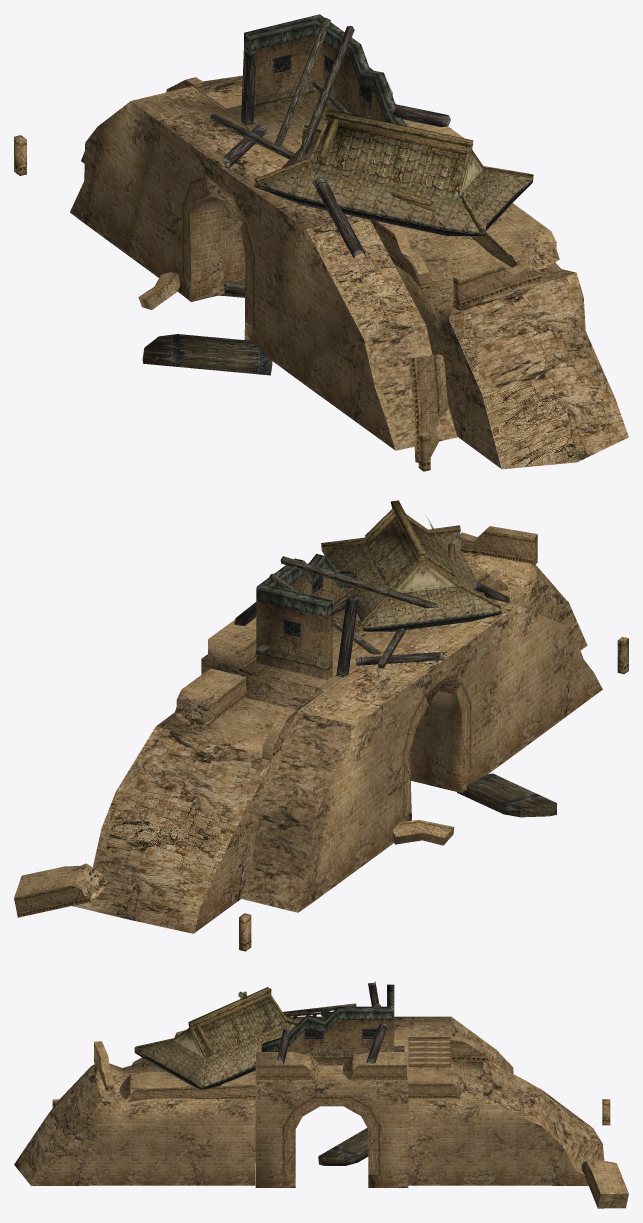
The model's file is w_cd_castle_wall06.glb.
3 renders of one model, top to bottom at view 1: azimuth 30°, elevation 25°; view 2: azimuth 150°, elevation 25°; view 3: azimuth 270°, elevation 25°, orthographic. The views are drawn at different scales.
Visible parts, largest first — view 1: w_cd_castle_wall06 (×2), w_cd_castle_door_2; view 2: w_cd_castle_wall06 (×2), w_cd_castle_door_2; view 3: w_cd_castle_wall06 (×2), w_cd_castle_door_2.
Boxes of the visible parts, box(x1,y1,x2,y2) form: w_cd_castle_wall06 (×2): box(14, 14, 628, 471); w_cd_castle_door_2: box(142, 279, 333, 375); w_cd_castle_wall06 (×2): box(14, 500, 628, 951); w_cd_castle_door_2: box(457, 773, 556, 817); w_cd_castle_wall06 (×2): box(14, 981, 628, 1208); w_cd_castle_door_2: box(318, 1128, 368, 1165).
Bounding box in the file's own units: 31.49 × 22.92 × 70.74.
Materials: 8 (8 with a texture image).
